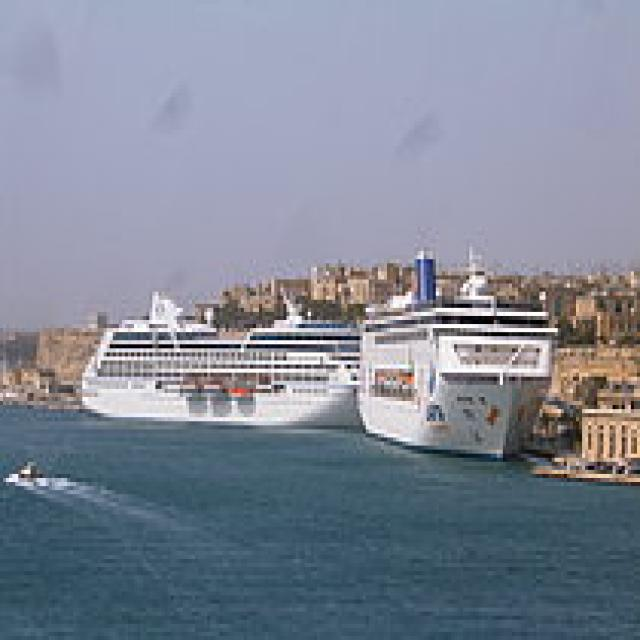Cruise: (350, 239, 558, 462), (76, 284, 369, 426)
